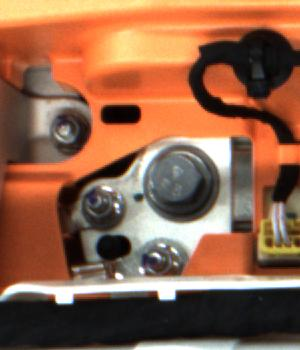nut_b: (139, 140, 217, 225)
screw_s: (47, 112, 91, 149), (75, 185, 116, 220), (141, 246, 183, 274)
